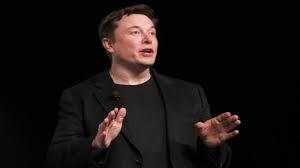Persons: (93, 6, 173, 75)
